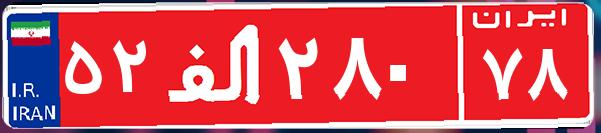0: (385, 28, 445, 110)
2: (273, 28, 330, 110), (110, 28, 158, 105)
5: (57, 26, 110, 107)
7: (475, 38, 525, 113)
8: (330, 28, 385, 110), (525, 38, 570, 115)
الف: (158, 15, 273, 115)
